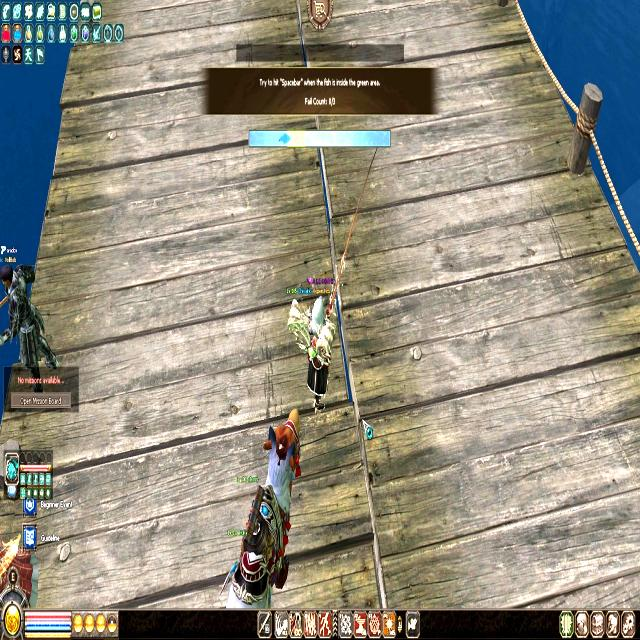fishes: (278, 132, 289, 146)
